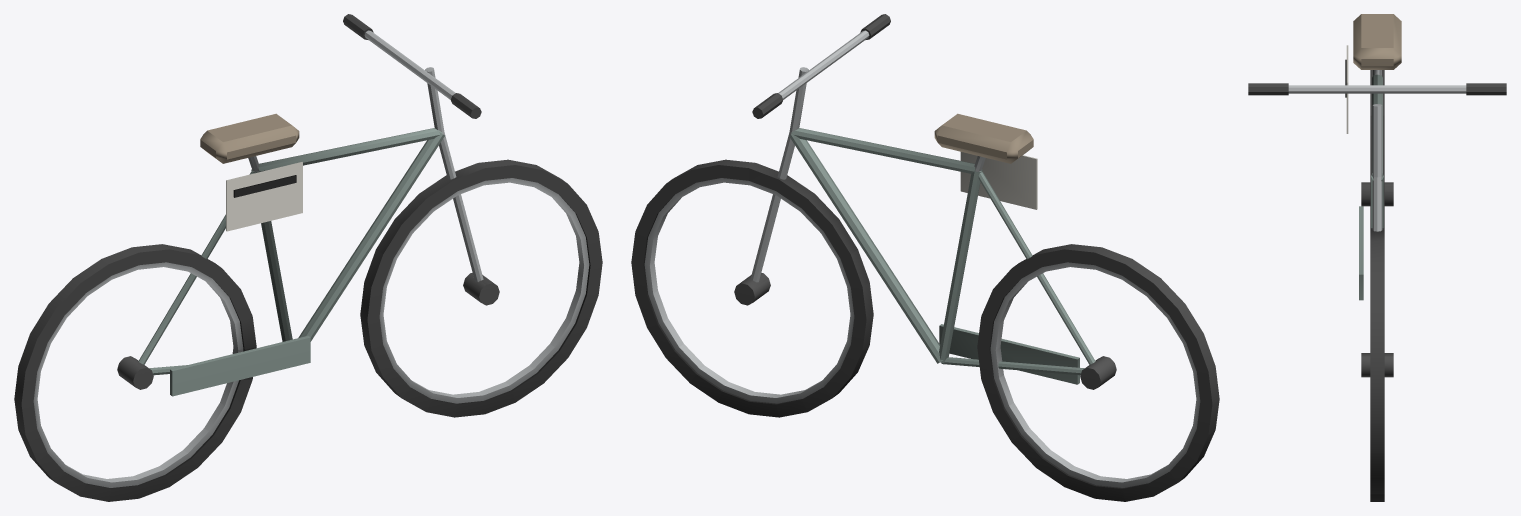
The model's file is kept_bicycle.glb.
3 views of the same model, side by side, from view 1: azimuth 30°, elevation 25°; view 2: azimuth 150°, elevation 25°; view 3: azimuth 270°, elevation 25° (orthographic).
Visible parts, largest first — view 1: static; view 2: static; view 3: static.
Part boxes in pixels (bbox=[...]): static: bbox=[14, 14, 602, 501]; static: bbox=[631, 14, 1219, 501]; static: bbox=[1248, 14, 1506, 501].
Size of the model in its own units: 1.68 by 1.02 by 0.64.
